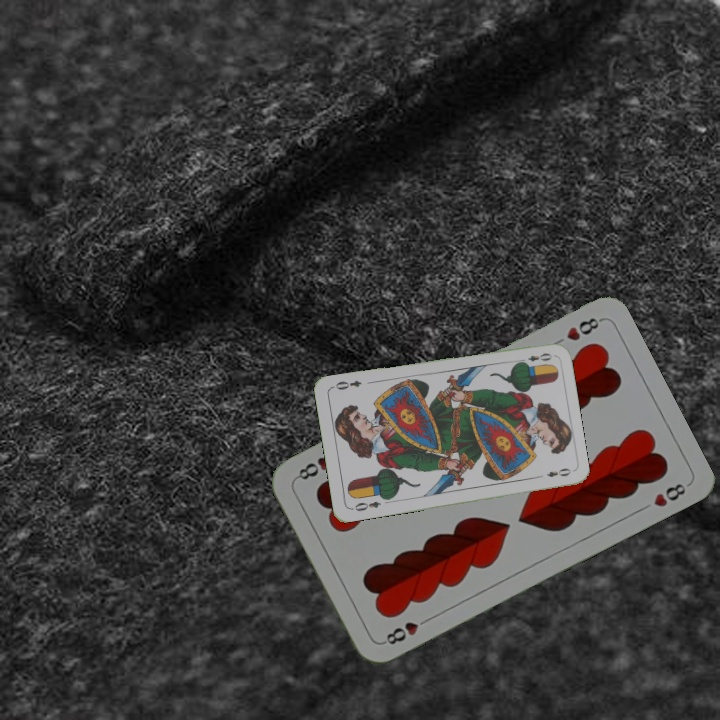EO: (515, 349, 555, 367), (347, 497, 383, 514)
H8: (378, 613, 433, 648), (562, 313, 605, 344)
